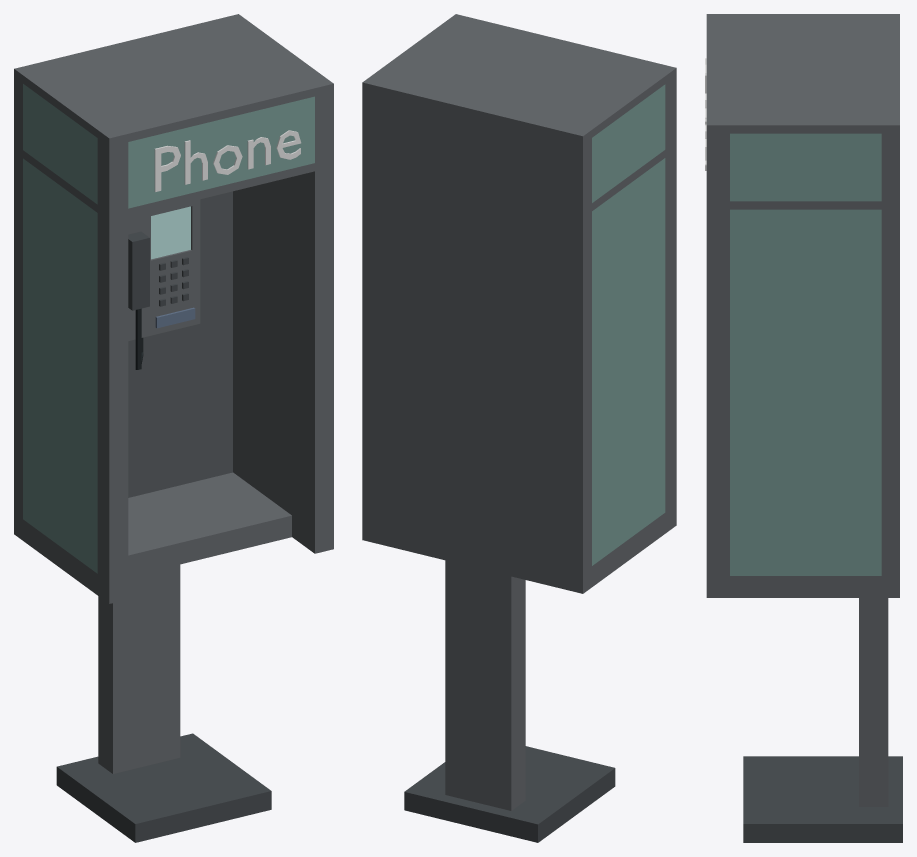
The model's file is PhoneBooth_01.fbx.
3 renders of one model, left to right at view 1: azimuth 30°, elevation 25°; view 2: azimuth 150°, elevation 25°; view 3: azimuth 270°, elevation 25°, orthographic. The views are drawn at different scales.
Visible parts, largest first — view 1: PhoneBooth_01; view 2: PhoneBooth_01; view 3: PhoneBooth_01.
Boxes of the visible parts, <box> form: PhoneBooth_01: <box>14,14,333,842</box>; PhoneBooth_01: <box>362,14,676,842</box>; PhoneBooth_01: <box>705,14,902,842</box>.
Size of the model in its own units: 64.5 by 200 by 48.51.
